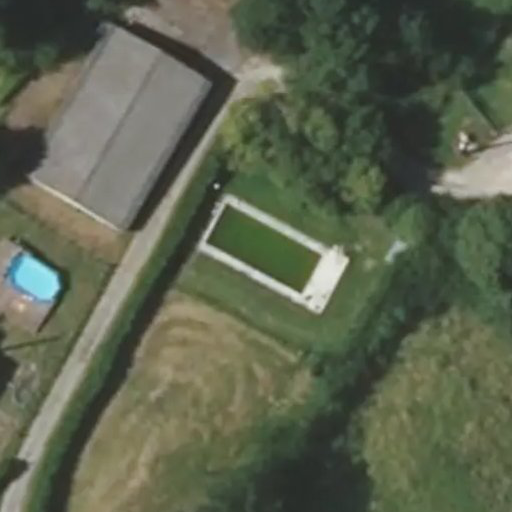pool: (195, 235, 318, 247)
